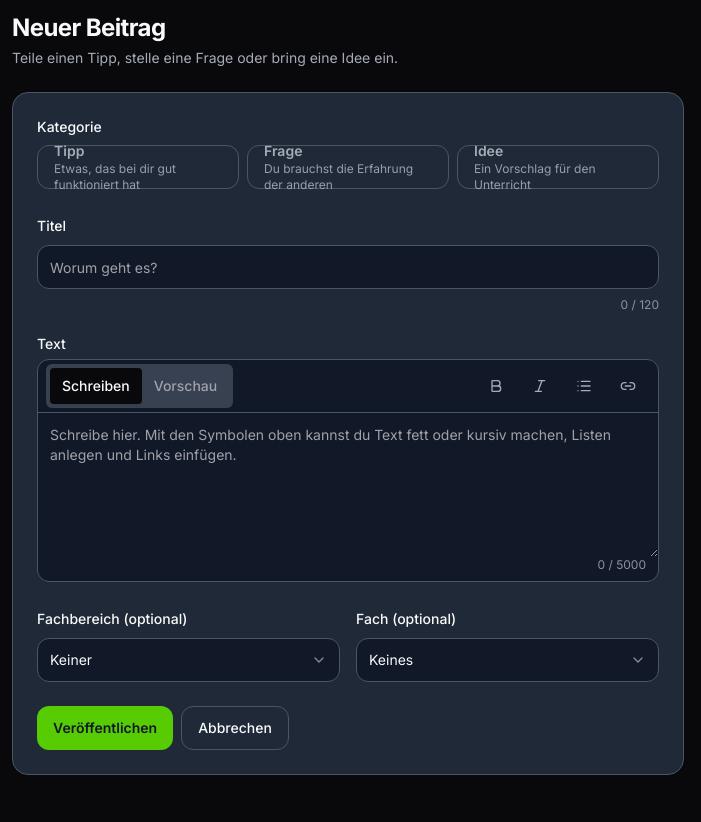
Beitragsformular › zeigt die Fehlermeldung des Servers (z. B. Flut-Schutz) und bleibt auf der Seite
The width and height of the screenshot is (701, 822).
Click the radio button labelled "Frage Du brauchst die Erfahrung der anderen" at {"x": 348, "y": 167}, box [247,145,449,189]
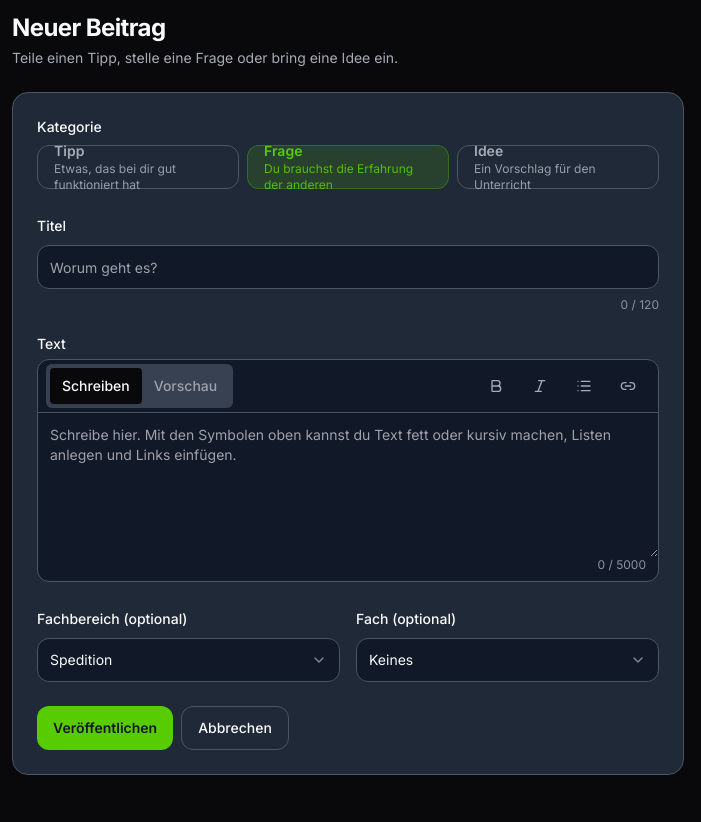
Type "Noch ein Beitrag" into the field labelled "Titel" at {"x": 348, "y": 267}, box [37,245,659,289]
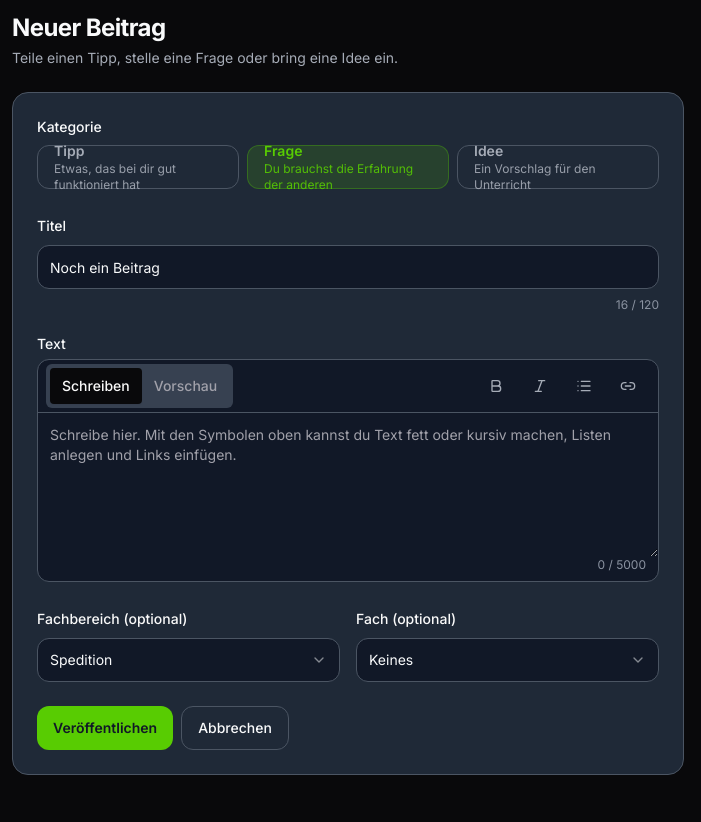
Replace the text in the text box named "Text des Beitrags" with "Ein ausreichend langer Text." at {"x": 348, "y": 485}, box [38,413,658,557]
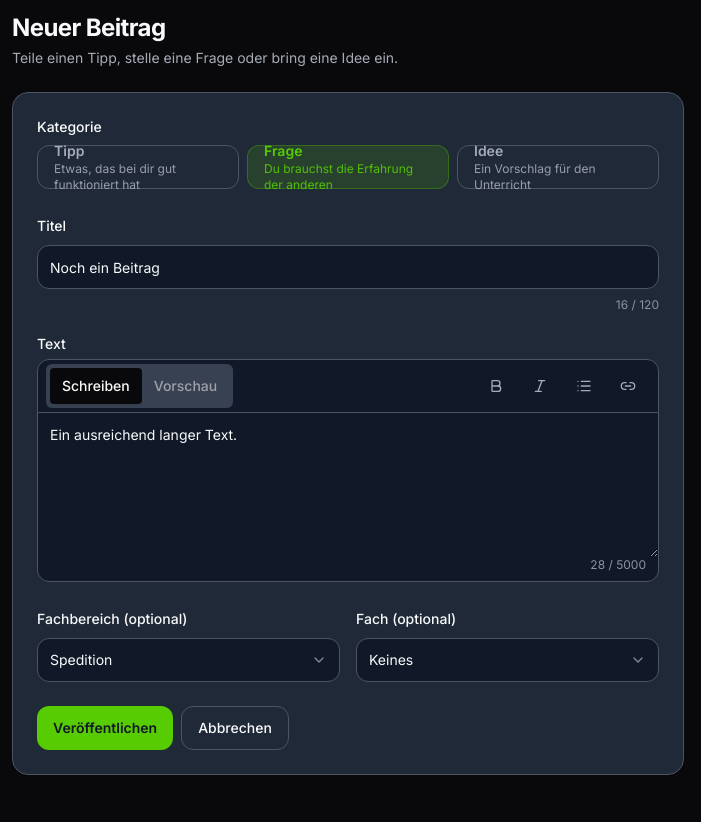
Click the button "Veröffentlichen" at {"x": 105, "y": 728}, box [37,706,173,750]
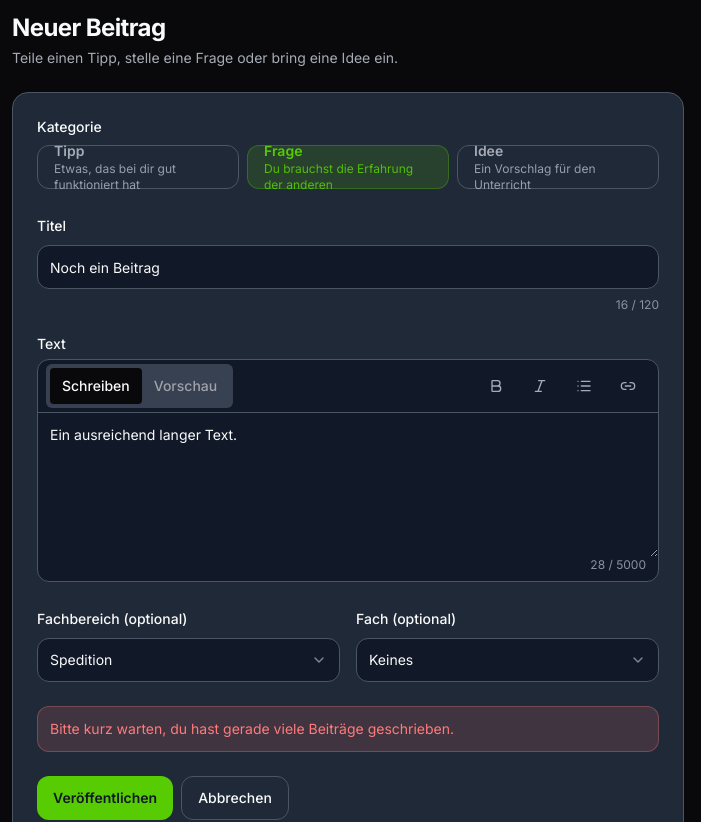
Result: the text "Bitte kurz warten, du hast gerade viele Beiträge geschrieben." is shown at [37,706,659,752]
